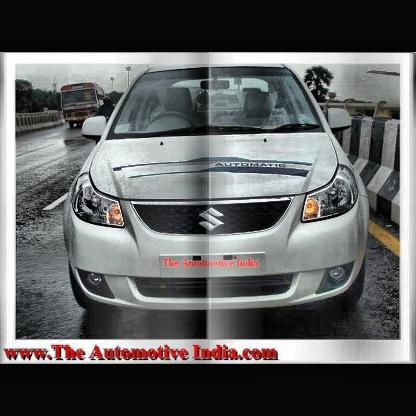Suzuki SX4 Sedan 2012: (62, 61, 377, 319)
